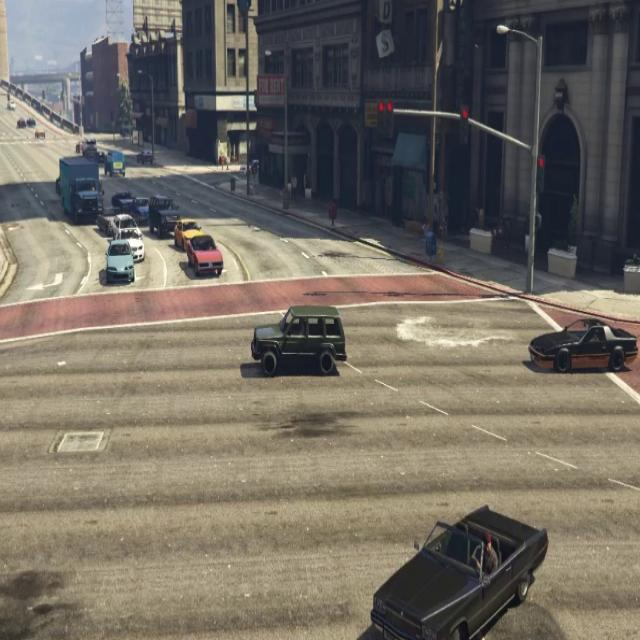Red-Signal: (374, 91, 397, 152), (456, 95, 476, 152), (534, 151, 548, 206)
